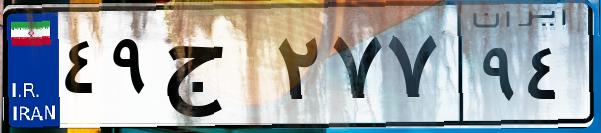2: (270, 28, 330, 110)
4: (57, 26, 110, 100), (525, 38, 570, 115)
7: (385, 28, 445, 110), (330, 28, 385, 110)
9: (475, 38, 525, 113), (110, 28, 158, 98)
ج: (158, 20, 270, 120)
